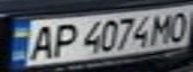0: (100, 16, 121, 52)
4: (78, 18, 103, 54), (133, 12, 157, 47)
7: (115, 15, 139, 51)
A: (21, 22, 60, 61)
M: (148, 10, 178, 45)
O: (163, 8, 193, 43)
P: (45, 20, 81, 58)
